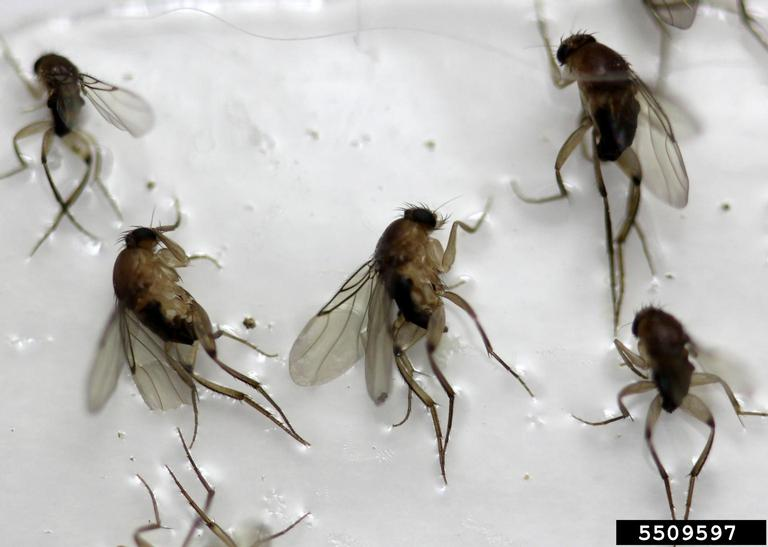phorid fly: (287, 143, 539, 489), (98, 203, 313, 487), (523, 5, 718, 302), (564, 306, 766, 518), (5, 40, 154, 252)
